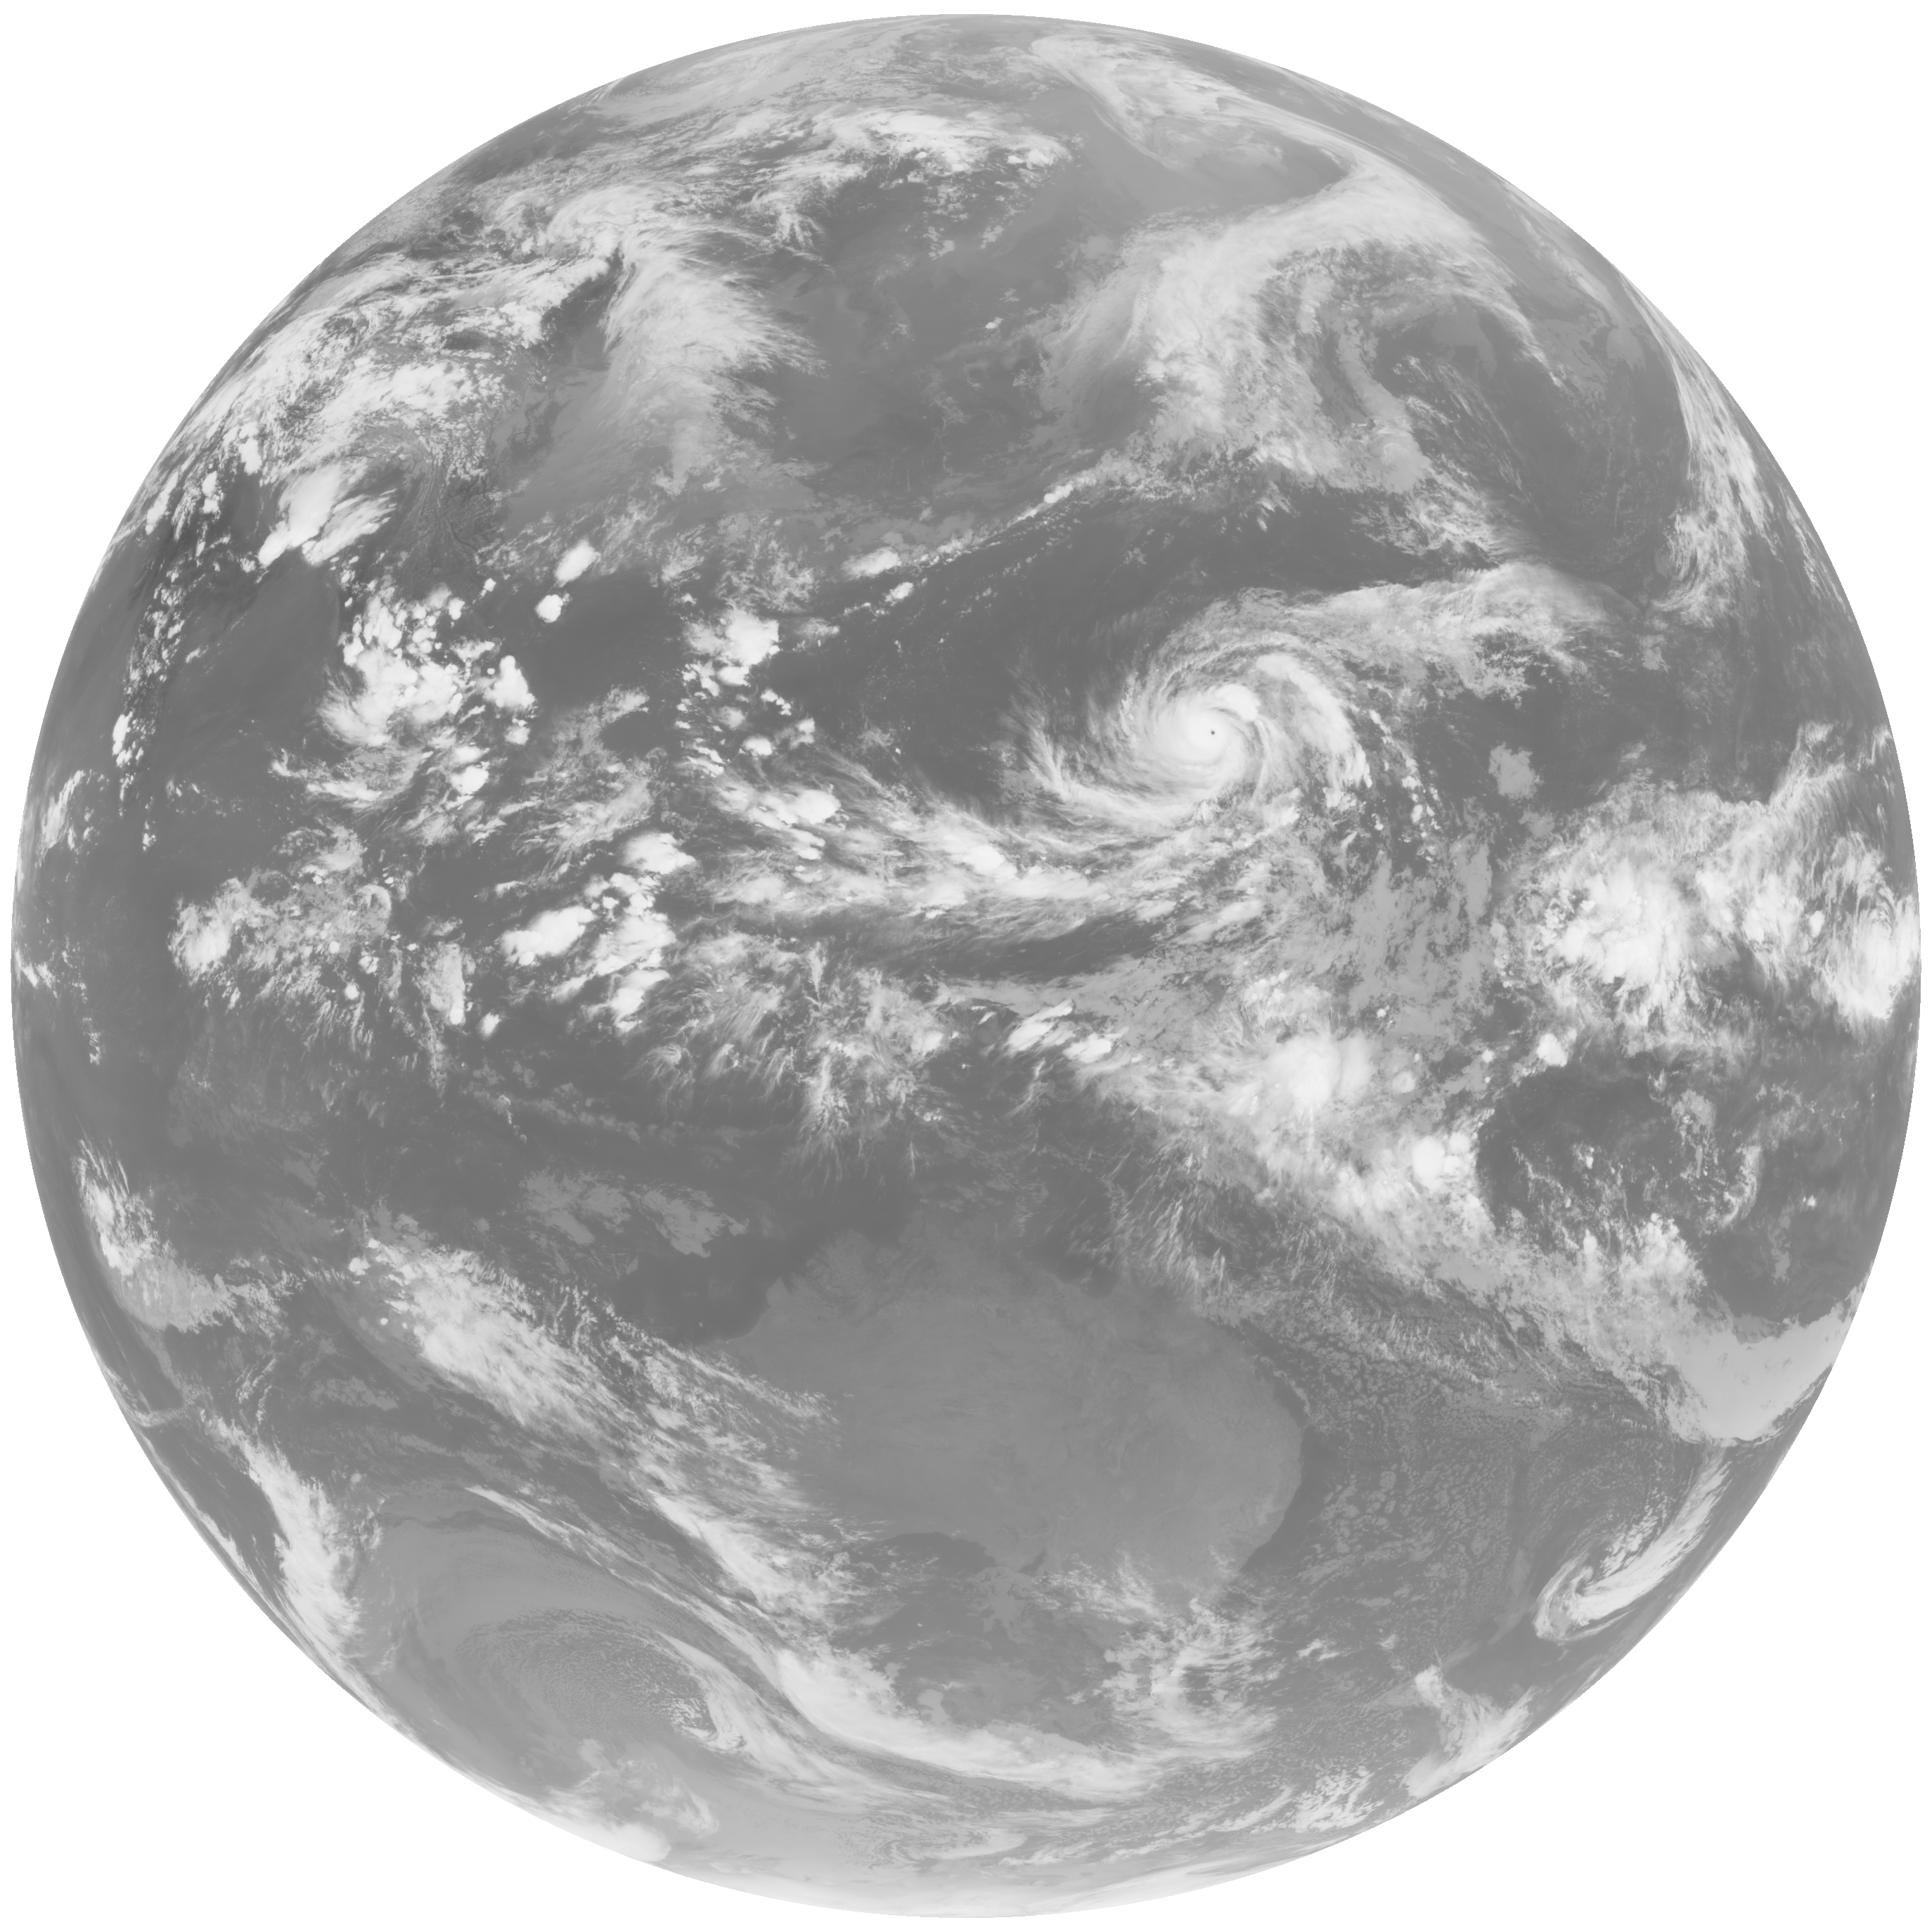typhoon: (962, 570, 1534, 925)
